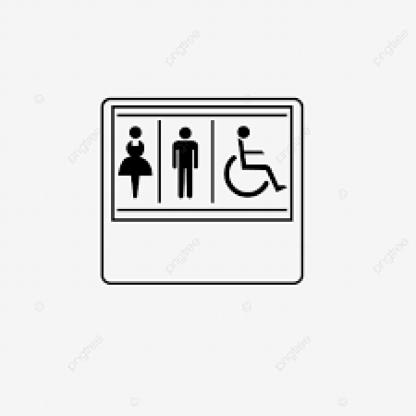toilet: (119, 118, 205, 204)
